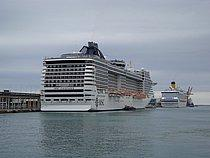Ship: (35, 40, 161, 116)
